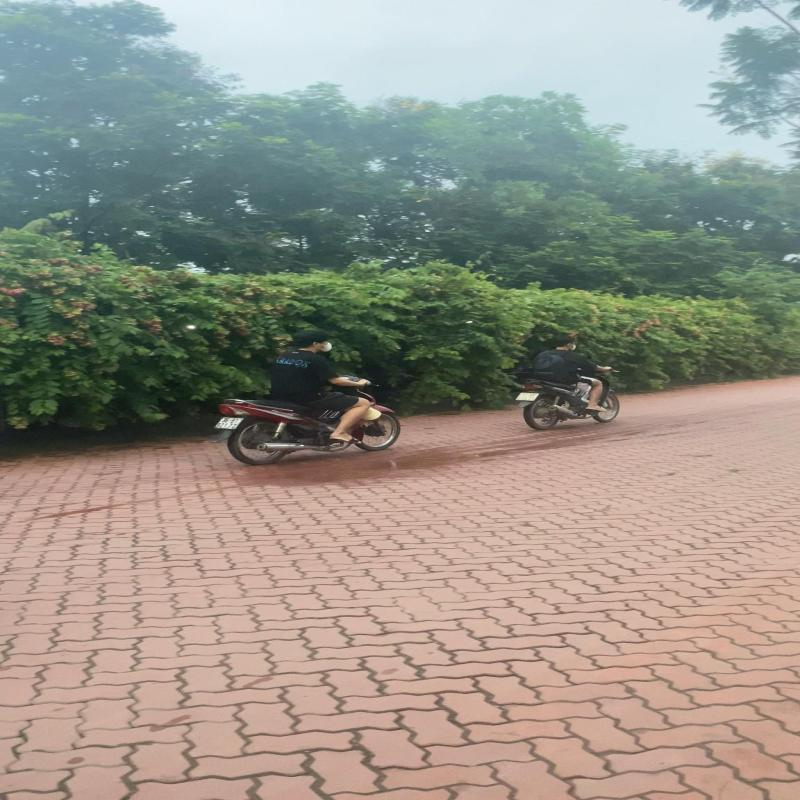licenseplate: (212, 418, 245, 430), (515, 392, 539, 401)
motorcyclist: (209, 330, 403, 465), (514, 334, 622, 430)
nohelmet: (292, 332, 332, 352), (552, 336, 576, 349)
